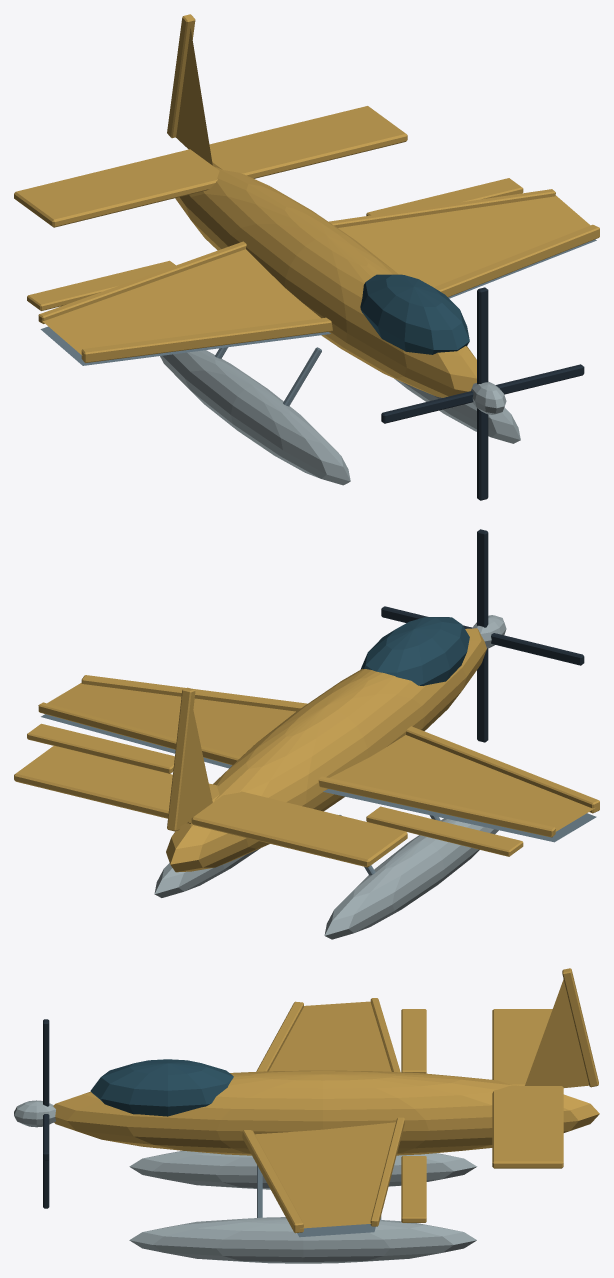
The model's file is aircraft-seaplane.lod0.glb.
3 views of the same model, one above another, from view 1: azimuth 30°, elevation 25°; view 2: azimuth 150°, elevation 25°; view 3: azimuth 270°, elevation 25° (orthographic). The views are drawn at different scales.
Parts seen in each view (by area): view 1: aircraft-seaplane__body, aircraft-seaplane__propeller_0, aircraft-seaplane__aileron_-1, aircraft-seaplane__aileron_1; view 2: aircraft-seaplane__body, aircraft-seaplane__propeller_0, aircraft-seaplane__aileron_-1, aircraft-seaplane__aileron_1; view 3: aircraft-seaplane__body, aircraft-seaplane__propeller_0, aircraft-seaplane__aileron_1, aircraft-seaplane__aileron_-1.
Boxes of the visible parts, bbox=[...] form: aircraft-seaplane__body: bbox=[14, 14, 599, 485]; aircraft-seaplane__propeller_0: bbox=[381, 287, 584, 500]; aircraft-seaplane__aileron_-1: bbox=[27, 260, 175, 310]; aircraft-seaplane__aileron_1: bbox=[366, 178, 523, 215]; aircraft-seaplane__body: bbox=[14, 617, 599, 939]; aircraft-seaplane__propeller_0: bbox=[381, 529, 584, 742]; aircraft-seaplane__aileron_-1: bbox=[366, 806, 523, 856]; aircraft-seaplane__aileron_1: bbox=[27, 723, 174, 773]; aircraft-seaplane__body: bbox=[53, 968, 599, 1263]; aircraft-seaplane__propeller_0: bbox=[14, 1019, 55, 1208]; aircraft-seaplane__aileron_1: bbox=[401, 1156, 426, 1222]; aircraft-seaplane__aileron_-1: bbox=[401, 1009, 426, 1073].
Bounding box in the file's own units: 6.67 × 3.56 × 7.41.
